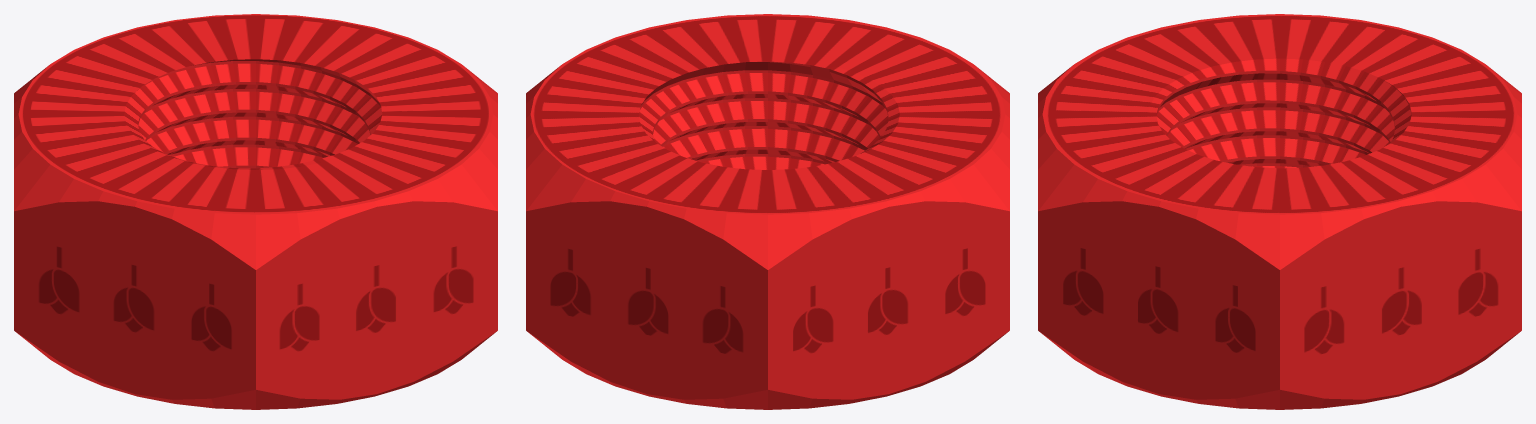
Rendered from nuts.fbx.
The picture shows the model from 3 angles, left to right: view 1: azimuth 30°, elevation 25°; view 2: azimuth 150°, elevation 25°; view 3: azimuth 270°, elevation 25°; orthographic projection.
Parts seen in each view (by area): view 1: N1; view 2: N1; view 3: N1.
Boxes of the visible parts, <box> form: N1: <box>14,14,497,409</box>; N1: <box>526,14,1009,409</box>; N1: <box>1038,14,1521,409</box>.
Bounding box in the file's own units: 635 × 245 × 550.
